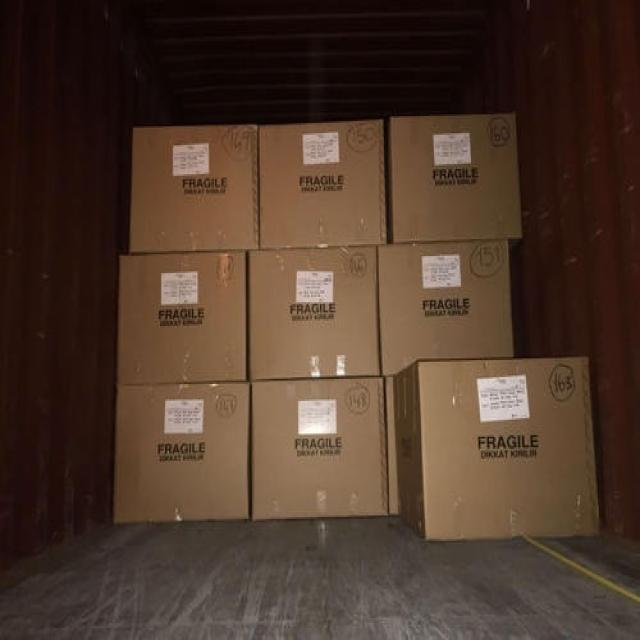Carton: (379, 244, 602, 539), (115, 123, 257, 524), (247, 244, 388, 519), (390, 111, 524, 241), (260, 121, 385, 247)
